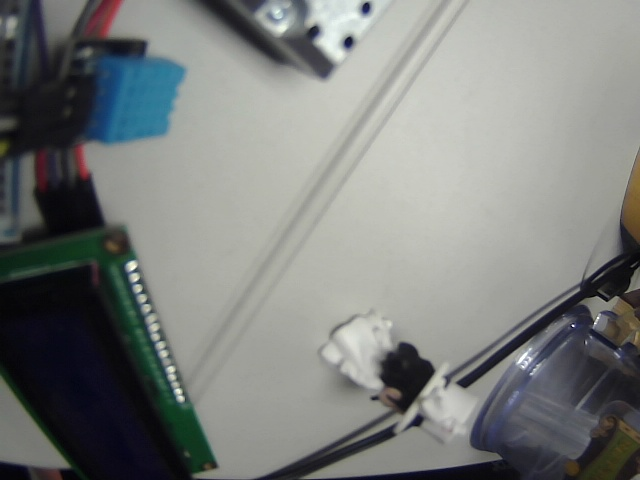lucci: (311, 300, 479, 448)
